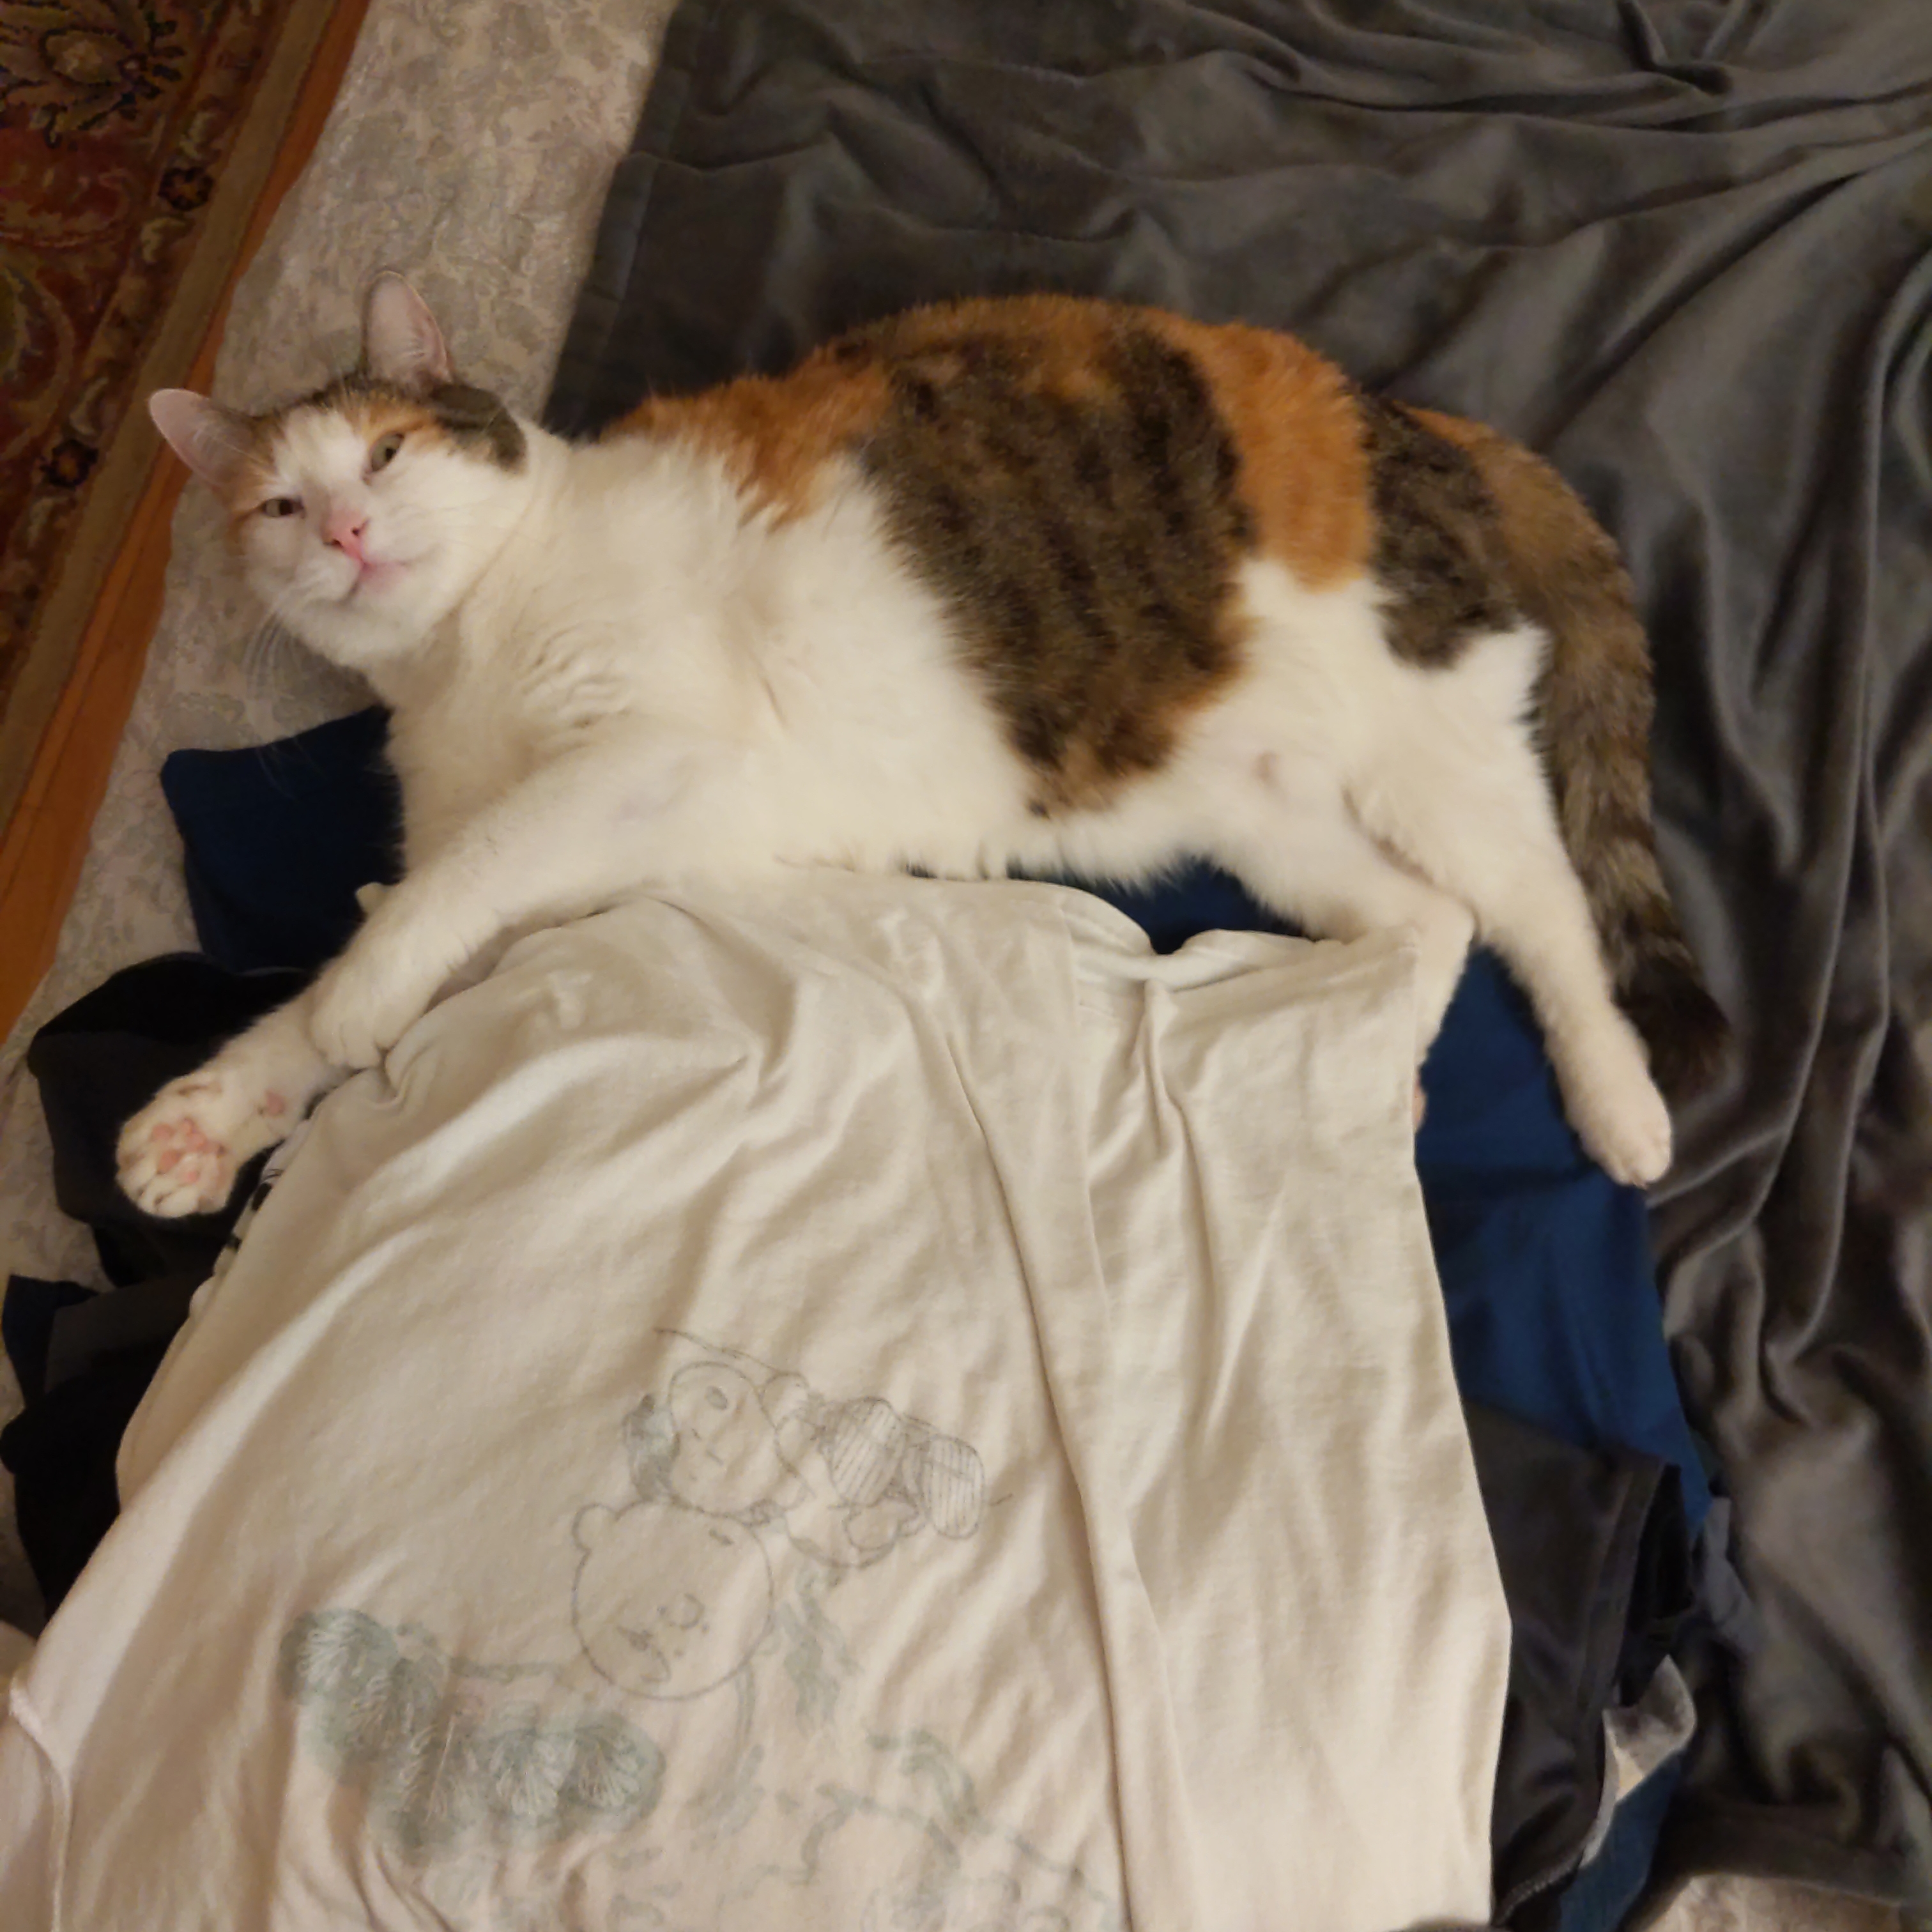Calico: (113, 267, 1716, 1215)
